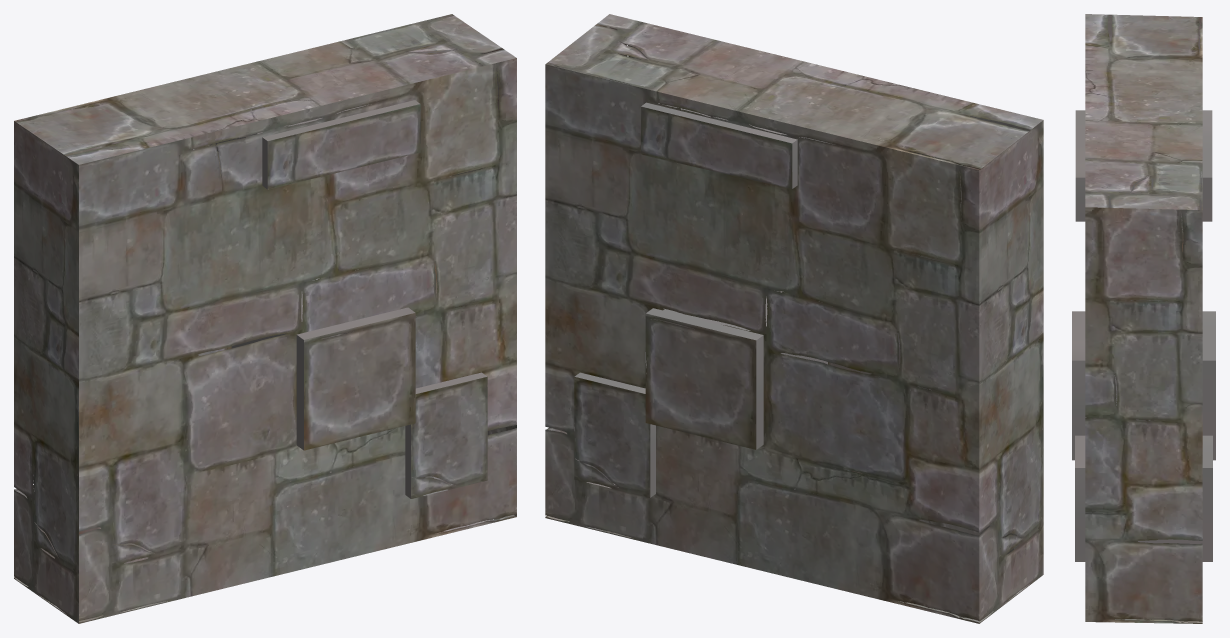
The picture shows the model from 3 angles, left to right: view 1: azimuth 30°, elevation 25°; view 2: azimuth 150°, elevation 25°; view 3: azimuth 270°, elevation 25°; orthographic projection. The views are drawn at different scales.
Visible parts, largest first — view 1: SM_BB_T3_Wall_Med_LOD0; view 2: SM_BB_T3_Wall_Med_LOD0; view 3: SM_BB_T3_Wall_Med_LOD0.
Boxes of the visible parts, left/top/right/bottom form: SM_BB_T3_Wall_Med_LOD0: left=14, top=14, right=516, bottom=623; SM_BB_T3_Wall_Med_LOD0: left=545, top=14, right=1043, bottom=623; SM_BB_T3_Wall_Med_LOD0: left=1072, top=14, right=1215, bottom=623.
Bounding box in the file's own units: 1.5 × 1.51 × 0.472.
Materials: 1 (1 with a texture image).
